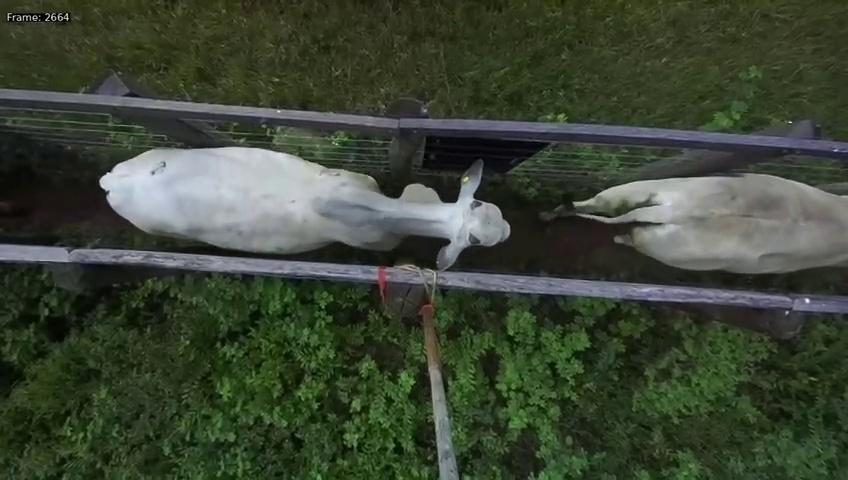cattle: (96, 136, 511, 271)
